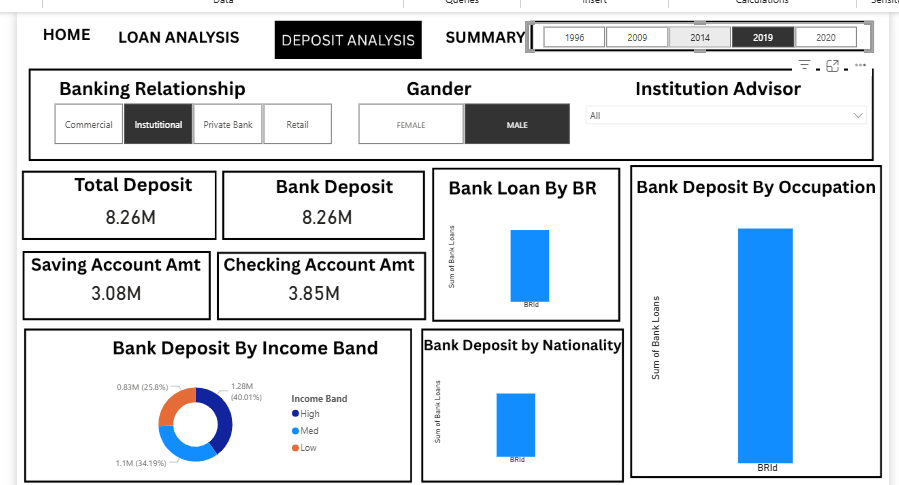

Layout of this report page (visuals, bound fields, positions):
{"tool":"powerbi","page":{"name":"Deposit Analysis","canvas":[1280,720],"ordinal":2},"visuals":[{"type":"actionButton","box":[16.2,14.7,99.9,39.7],"z":0},{"type":"actionButton","box":[365.9,14.7,241,42.6],"z":1000},{"type":"actionButton","box":[621.6,14.7,126.4,39.7],"z":2000},{"type":"card","fields":{"Values":["Sum(customer.Bank Deposits)"]},"box":[52.9,271.8,227.8,55.8],"z":3000},{"type":"card","fields":{"Values":["Sum(customer.Checking Accounts)"]},"box":[332.1,387.9,208.7,45.6],"z":4000},{"type":"card","fields":{"Values":["Sum(customer.Saving Accounts)"]},"box":[39.7,387.9,211.6,45.6],"z":5000},{"type":"card","fields":{"Values":["Sum(customer.Bank Deposits)"]},"box":[351.2,271.8,208.7,55.8],"z":6000},{"type":"donutChart","fields":{"Category":["customer.Income Band"],"Y":["Sum(customer.Bank Deposits)"]},"box":[116.1,530.4,392.3,151.3],"z":7000},{"type":"clusteredColumnChart","fields":{"Category":["customer.BRId"],"Y":["Sum(customer.Bank Loans)"]},"box":[627.4,279.2,239.5,161.6],"z":8000},{"type":"clusteredColumnChart","fields":{"Category":["customer.BRId"],"Y":["Sum(customer.Bank Loans)"]},"box":[606.9,506.9,239.5,161.6],"z":9000},{"type":"clusteredColumnChart","fields":{"Category":["customer.BRId"],"Y":["Sum(customer.Bank Loans)"]},"box":[926.1,279.9,332.8,401.4],"z":10000},{"type":"slicer","fields":{"Values":["customer.BRId"]},"box":[29.4,127.8,457,73.5],"z":11000},{"type":"slicer","fields":{"Values":["customer.GenderId"]},"box":[476.1,127.8,360,73.5],"z":12000},{"type":"slicer","fields":{"Values":["customer.IAId"]},"box":[825.7,128.5,433.1,72.2],"z":13000},{"type":"actionButton","box":[16.2,13.2,99.9,39.7],"z":14000},{"type":"actionButton","box":[126.4,17.6,205.7,39.7],"z":15000},{"type":"actionButton","box":[382,17.6,213.1,39.7],"z":16000},{"type":"actionButton","box":[627.4,17.6,120.5,36.7],"z":17000},{"type":"slicer","fields":{"Values":["customer.join_Year"]},"box":[747.9,14.7,509.9,44.1],"z":18000}]}

Visuals, with their boxes on the page's 1280x720 design canvas (x1, y1, x2, y2). These are canvas units, not pixel positions in the 899x485 screenshot, which may show the page scaled, cropped or inside an application window:
actionButton: region(16, 15, 116, 54)
actionButton: region(366, 15, 607, 57)
actionButton: region(622, 15, 748, 54)
card - Sum(customer.Bank Deposits): region(53, 272, 281, 328)
card - Sum(customer.Checking Accounts): region(332, 388, 541, 434)
card - Sum(customer.Saving Accounts): region(40, 388, 251, 434)
card - Sum(customer.Bank Deposits): region(351, 272, 560, 328)
donutChart - customer.Income Band x Sum(customer.Bank Deposits): region(116, 530, 508, 682)
clusteredColumnChart - customer.BRId x Sum(customer.Bank Loans): region(627, 279, 867, 441)
clusteredColumnChart - customer.BRId x Sum(customer.Bank Loans): region(607, 507, 846, 668)
clusteredColumnChart - customer.BRId x Sum(customer.Bank Loans): region(926, 280, 1259, 681)
slicer - customer.BRId: region(29, 128, 486, 201)
slicer - customer.GenderId: region(476, 128, 836, 201)
slicer - customer.IAId: region(826, 128, 1259, 201)
actionButton: region(16, 13, 116, 53)
actionButton: region(126, 18, 332, 57)
actionButton: region(382, 18, 595, 57)
actionButton: region(627, 18, 748, 54)
slicer - customer.join_Year: region(748, 15, 1258, 59)
